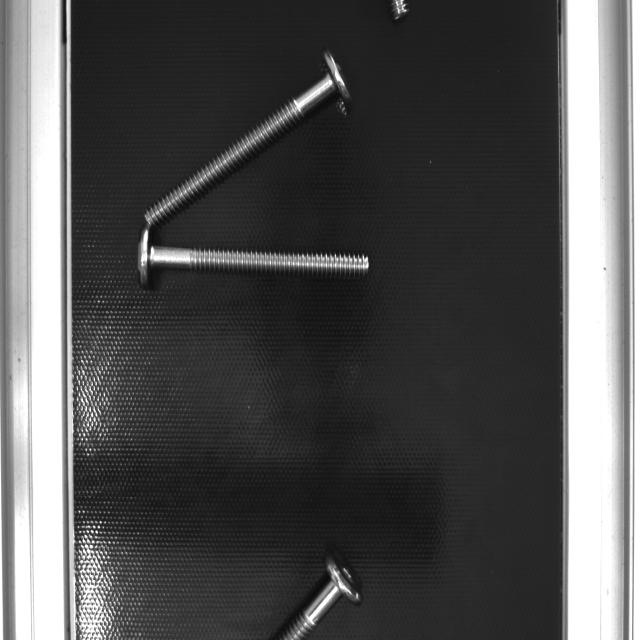bulon: (139, 73, 336, 232), (149, 244, 371, 283), (276, 579, 342, 639)
